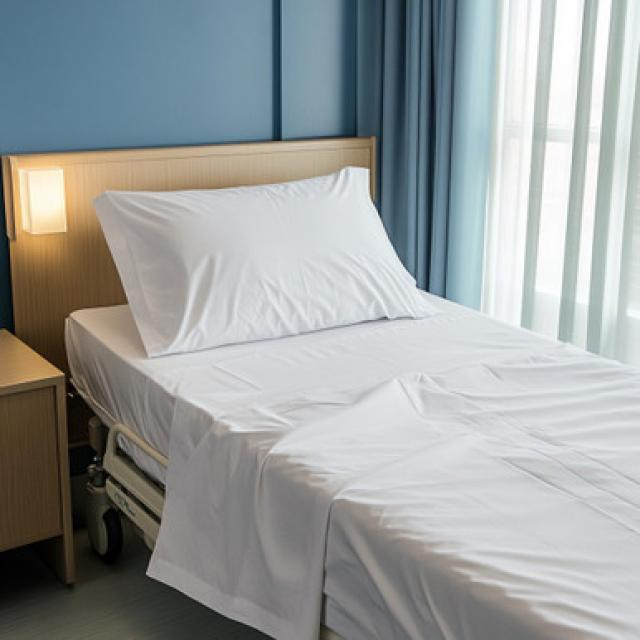bed: (0, 134, 638, 638)
